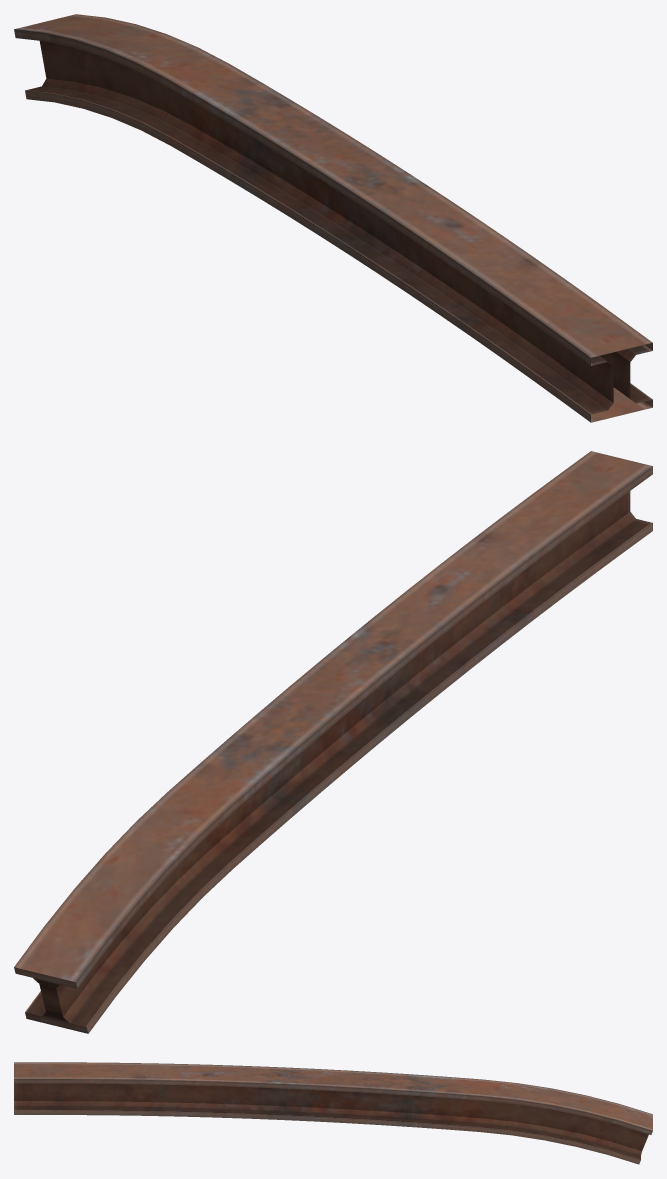
The model's file is welder_girder_bent03.dae.
The picture shows the model from 3 angles, top to bottom: view 1: azimuth 30°, elevation 25°; view 2: azimuth 150°, elevation 25°; view 3: azimuth 270°, elevation 25°; orthographic projection. The views are drawn at different scales.
Parts seen in each view (by area): view 1: welder_girder_bent03; view 2: welder_girder_bent03; view 3: welder_girder_bent03.
Boxes of the visible parts, x1,y1,x2,y2 form: welder_girder_bent03: (14, 14, 652, 422); welder_girder_bent03: (14, 451, 652, 1033); welder_girder_bent03: (14, 1062, 652, 1164).
Bounding box in the file's own units: 0.25 × 0.5957 × 4.03.
